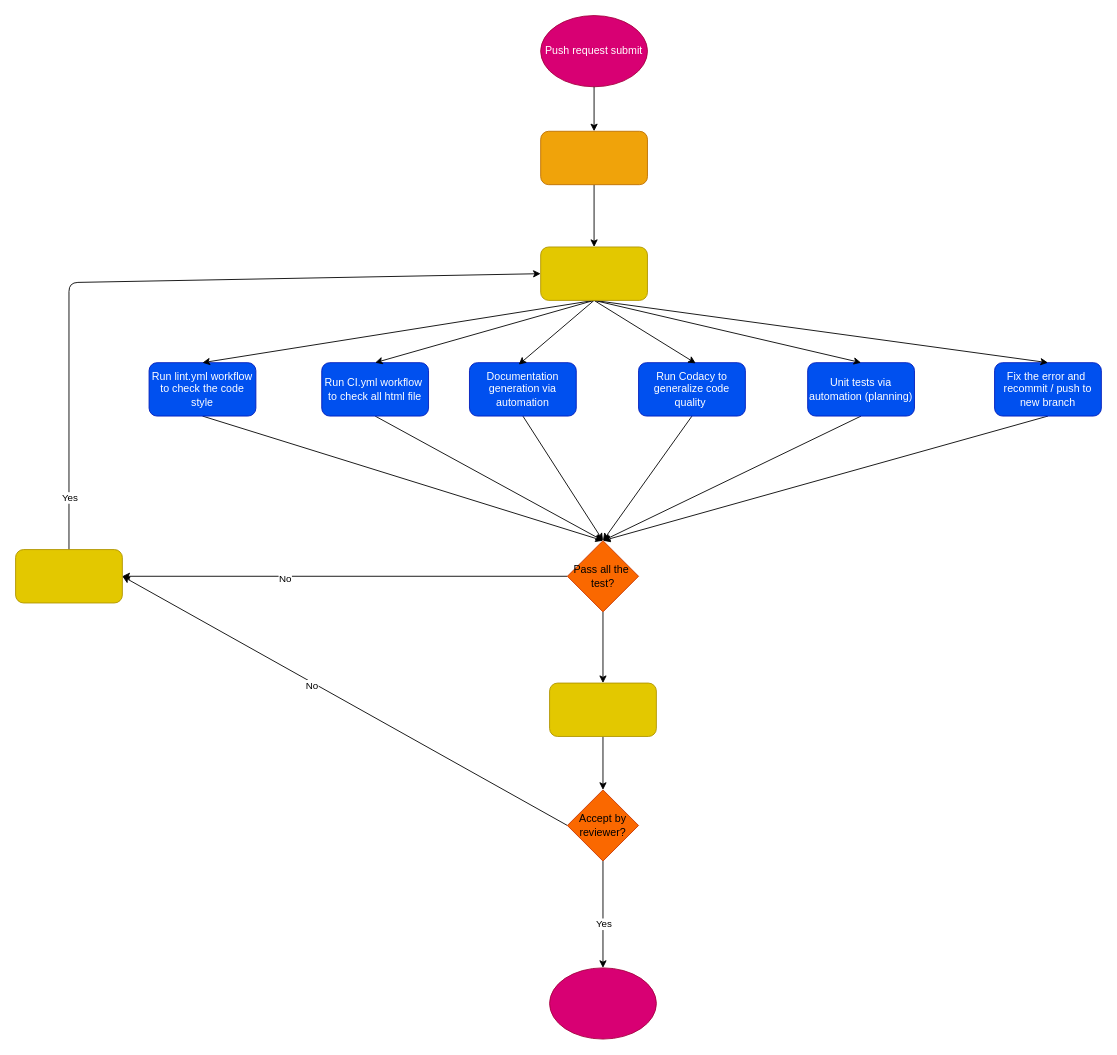
Image size: 1117x1055. Some labels were removed from this diagram. The shapes that lost their labels are listed below. From the top down, each one's centre as x and y in pixels, then its label:
At (593,157): "Create a New Branch".
At (593,273): "Run all GitHub pipeline action".
At (68,576): "Fix the error through each report and Recommit / Repush to the New Branch".
At (602,709): "Request human review (Pull requests)".
At (602,1003): "All the CI/CD done merge to main".
